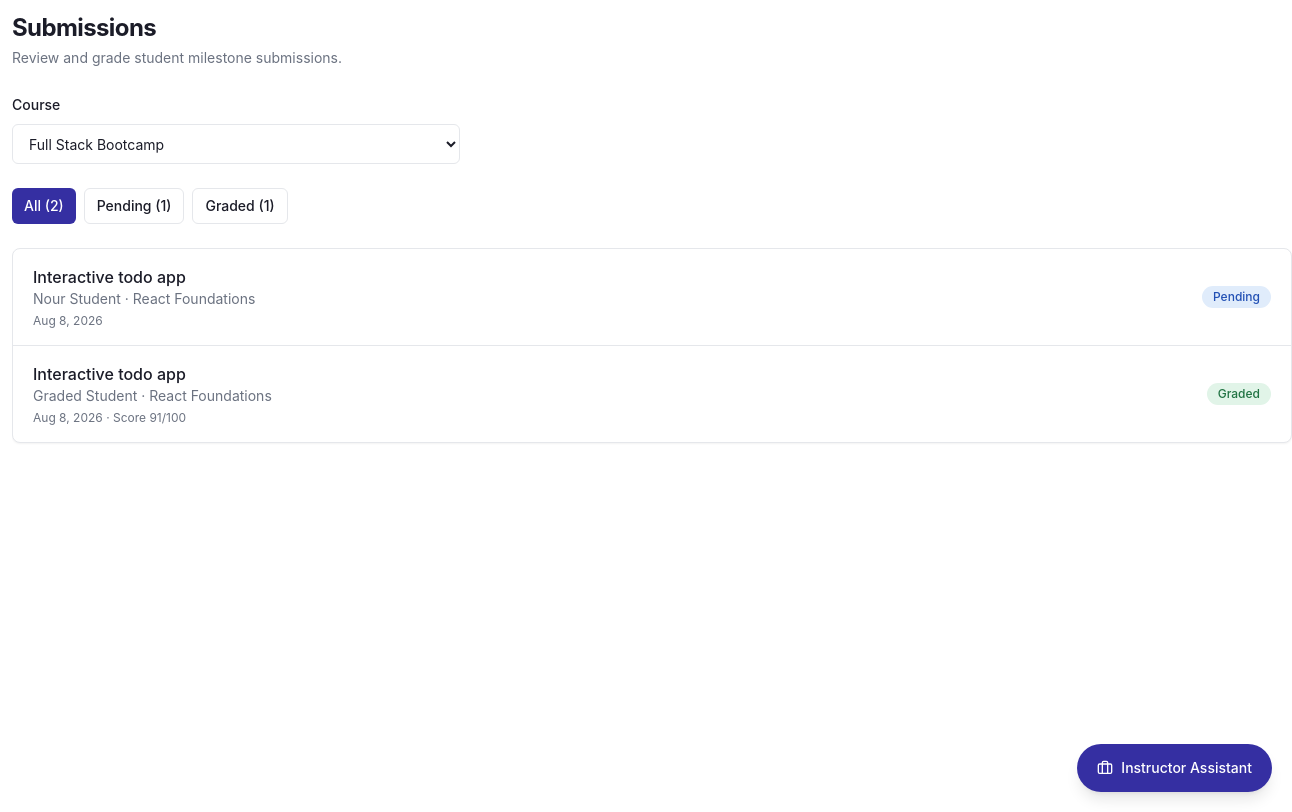
it: SubmissionsPage › filters pending and graded submissions using backend status values
Expected: the text "Nour Student · React Foundations" is shown, [33,289,255,309]
Click the button "Pending (1)": click(134, 206) [84,188,184,224]
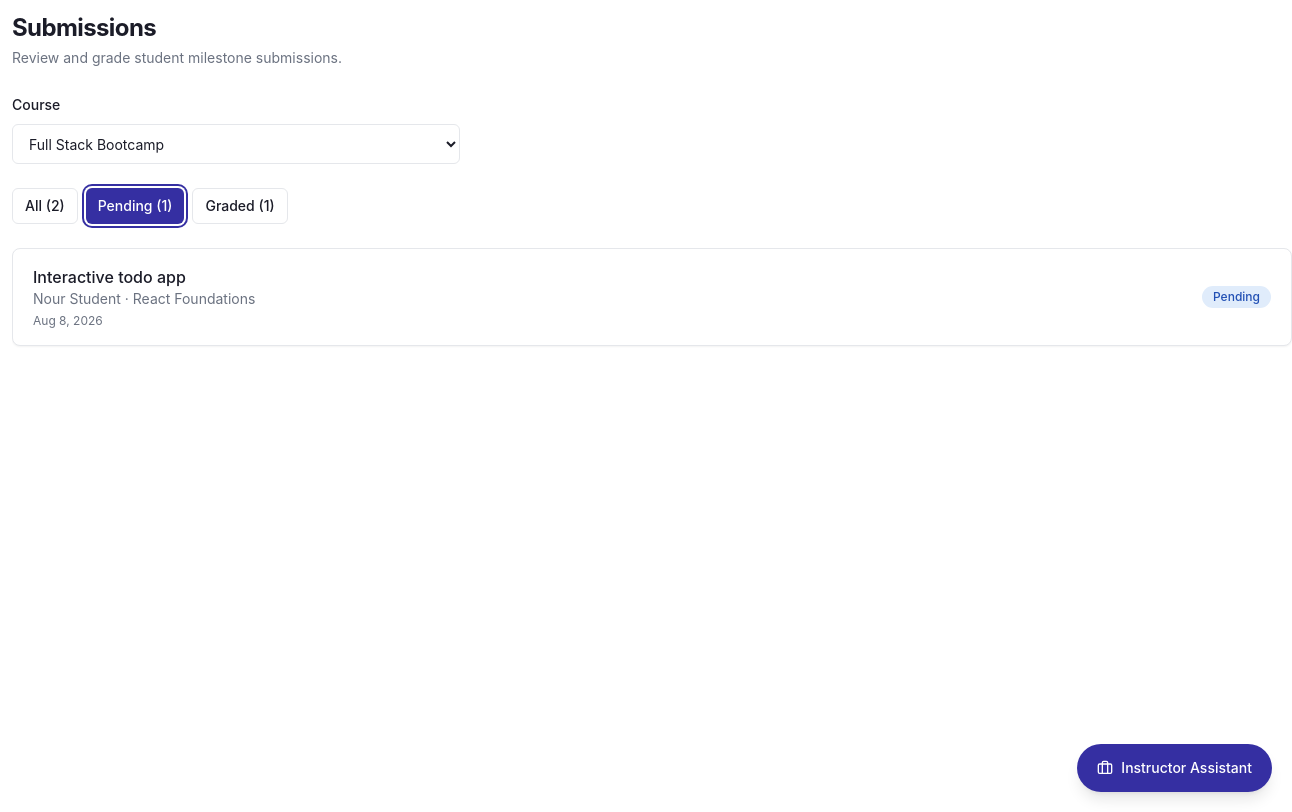
Expected: the text "Nour Student · React Foundations" is shown, [33,289,255,309]
Result: the link "Graded Student" is gone
Click the button "Graded (1)": click(240, 206) [192,188,288,224]
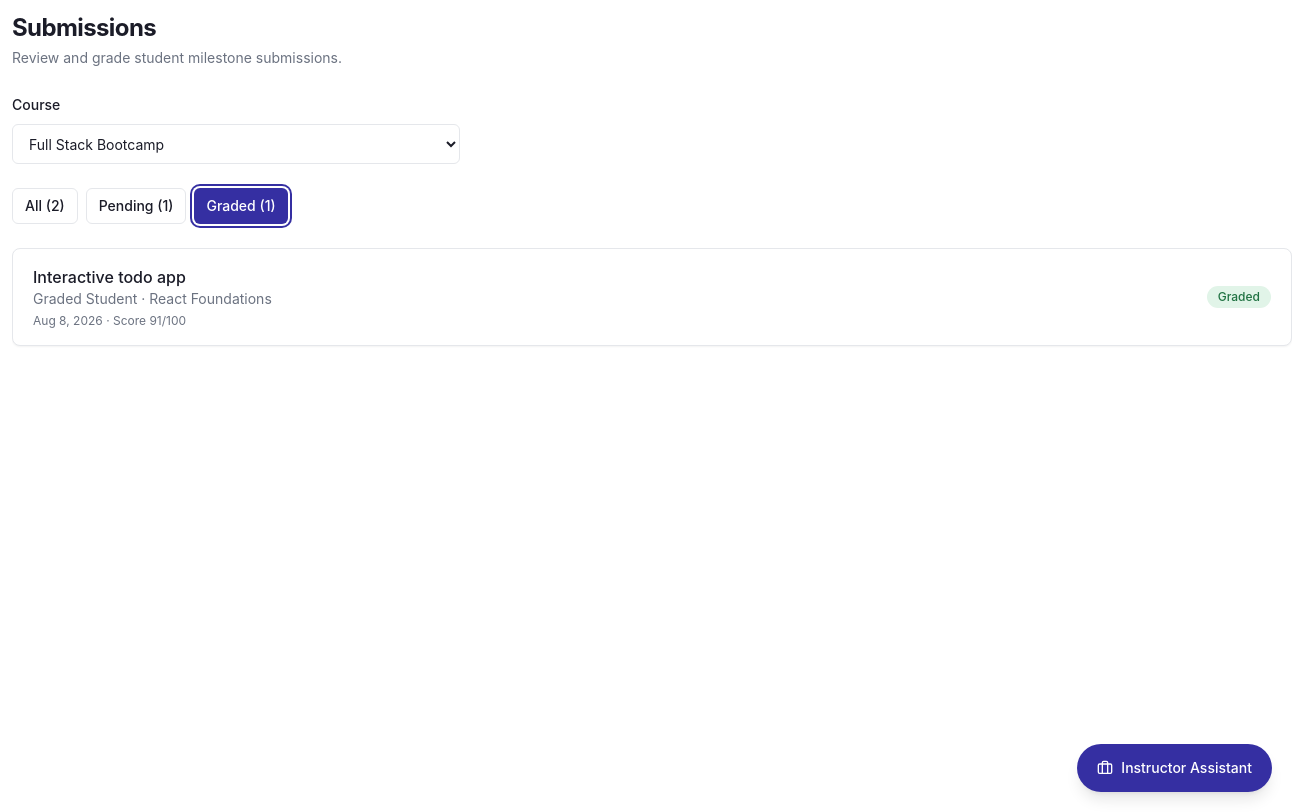
Result: the text "Graded Student · React Foundations" is shown at [33,289,272,309]
Result: the link "Nour Student" is gone
Result: the text "Graded" is shown at [1207,286,1271,308]
